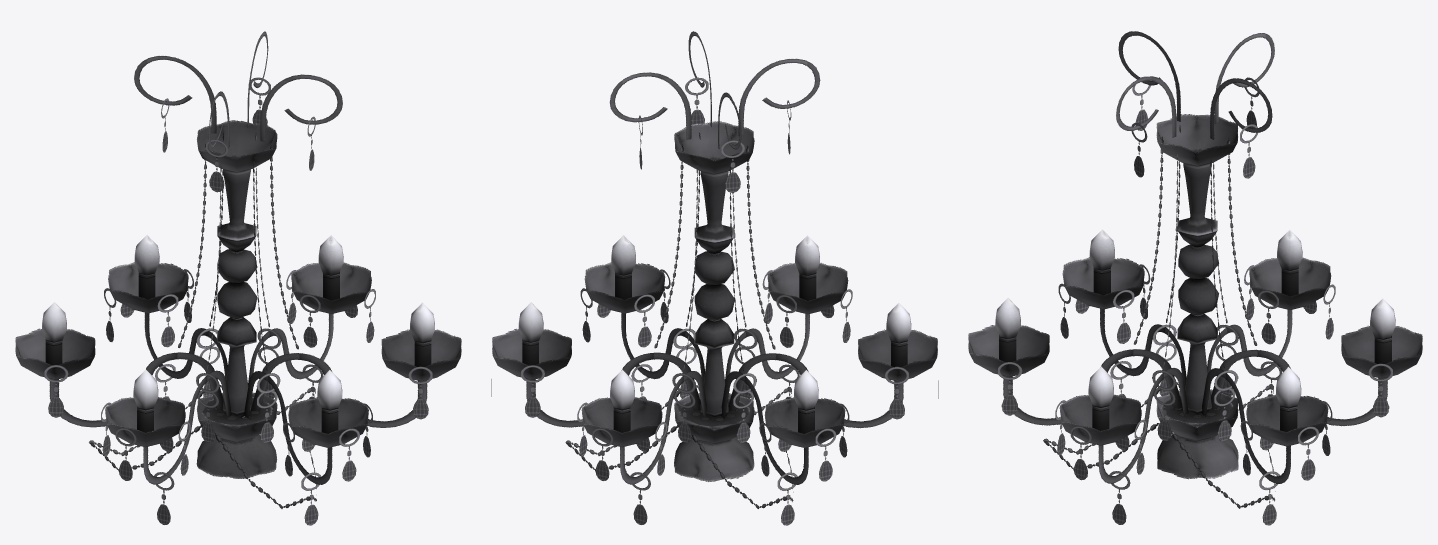
File: Chandelier02.FBX
3 renders of one model, left to right at view 1: azimuth 30°, elevation 25°; view 2: azimuth 150°, elevation 25°; view 3: azimuth 270°, elevation 25°, orthographic.
Parts seen in each view (by area): view 1: Cabinet01; view 2: Cabinet01; view 3: Cabinet01.
Boxes of the visible parts, x1=… form: Cabinet01: x1=15, y1=31, x2=461, y2=525; Cabinet01: x1=491, y1=31, x2=938, y2=525; Cabinet01: x1=968, y1=31, x2=1422, y2=525.
Bounding box in the file's own units: 138 × 156 × 150.
